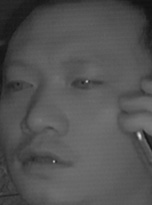eye: (71, 73, 104, 93), (5, 76, 36, 93)
mouth: (16, 141, 74, 177)
